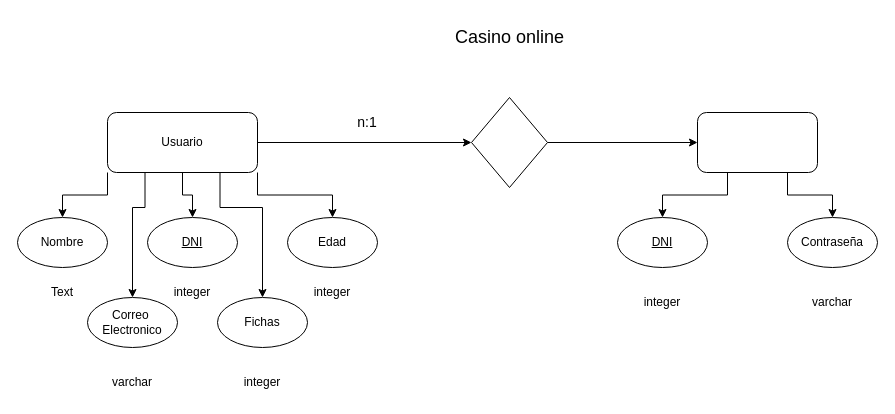
Some shapes in this 895 by 414 pixel diagram are drawn without their labels. Here are the shapes that lost their labels. From the top down, the box of each, then its label:
(470, 96, 548, 188): Se Registran
(696, 112, 818, 172): Login
